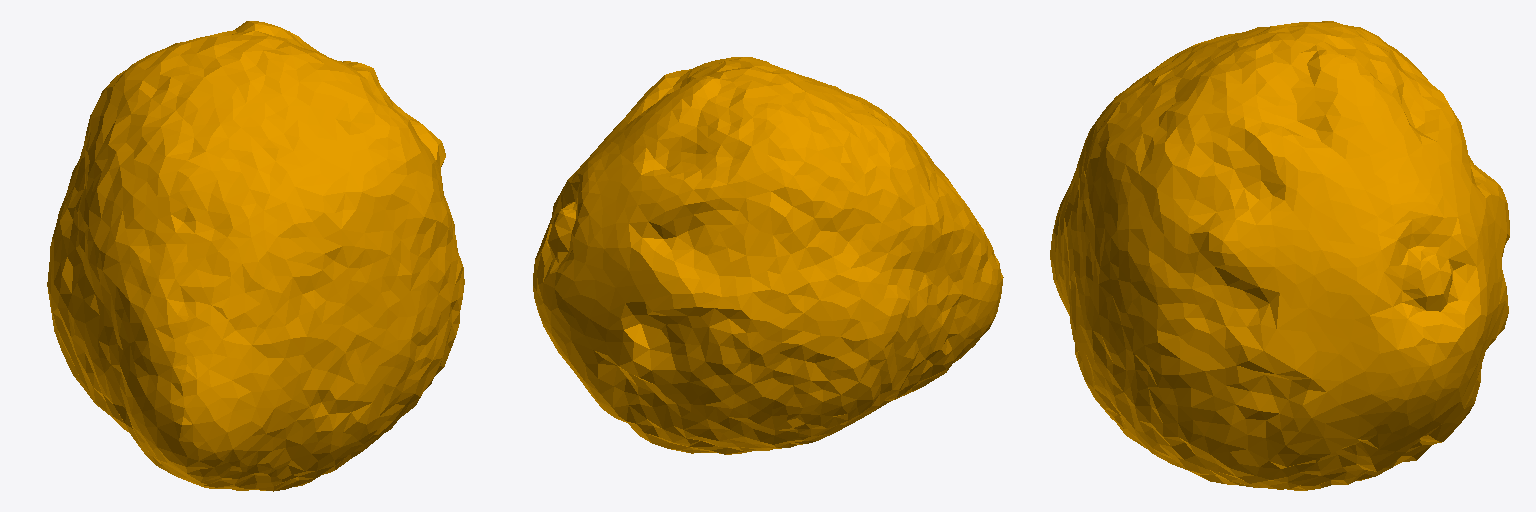
The robot description file, URDF, robot "strawberry":
<?xml version="1.0" encoding="UTF-8"?>
<robot name="strawberry">
	<link name="base">
		<collision>
			<geometry>
				<mesh filename="strawberry.obj"/>
			</geometry>
			<origin xyz="0 0 0"/>
		</collision>
		<visual>
			<geometry>
				<mesh filename="strawberry.obj"/>
			</geometry>
			<origin xyz="0 0 0"/>
		</visual>
		<inertial>
			<mass value="0.018"/>
			<inertia ixx="3.728400741087679e-06" ixy="-3.6367708086410197e-07" ixz="-9.753492752734992e-09" iyy="3.804326594830449e-06" iyz="-1.1143120374466581e-07" izz="3.7586311691740947e-06" />
			<origin xyz="-0.0006304970118166897 -0.0003460376131025324 -0.0015038721786667369"/>
		</inertial>
	</link>
</robot>

--- Render facts (derived) ---
Views: 3 orthographic renders of the robot side by side, from view 1: azimuth 30°, elevation 25°; view 2: azimuth 150°, elevation 25°; view 3: azimuth 270°, elevation 25°.
Model strawberry with 1 links and 0 joints (none), rooted at base, posed every joint at zero.
Visible links, largest first — view 1: base; view 2: base; view 3: base.
Link boxes in pixels (bbox=[...]): base: bbox=[47, 21, 464, 491]; base: bbox=[533, 57, 1003, 454]; base: bbox=[1050, 21, 1509, 490].
Size in the robot's own frame: 0.0452 by 0.0453 by 0.0457 metres.
Meshes: 1 distinct files referenced, 1 mesh visuals loaded (1 OBJ).